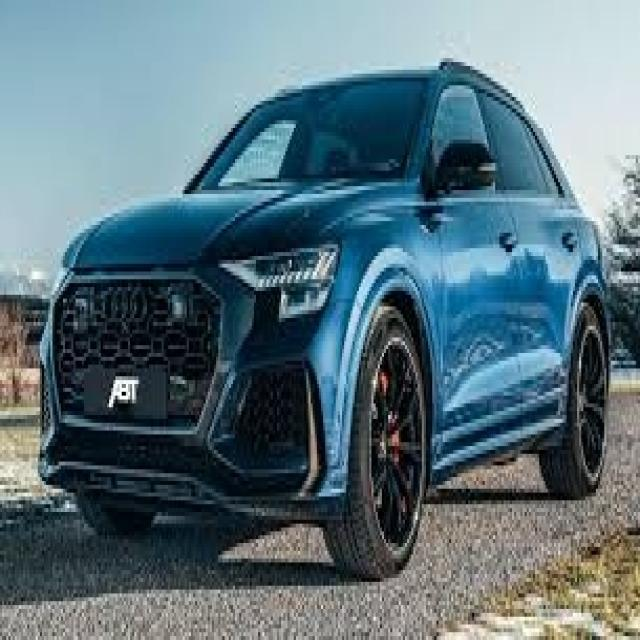blue: (39, 59, 609, 556)
